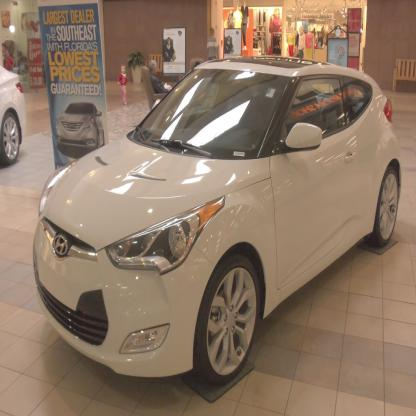Car: (34, 53, 401, 386), (0, 64, 26, 166)
